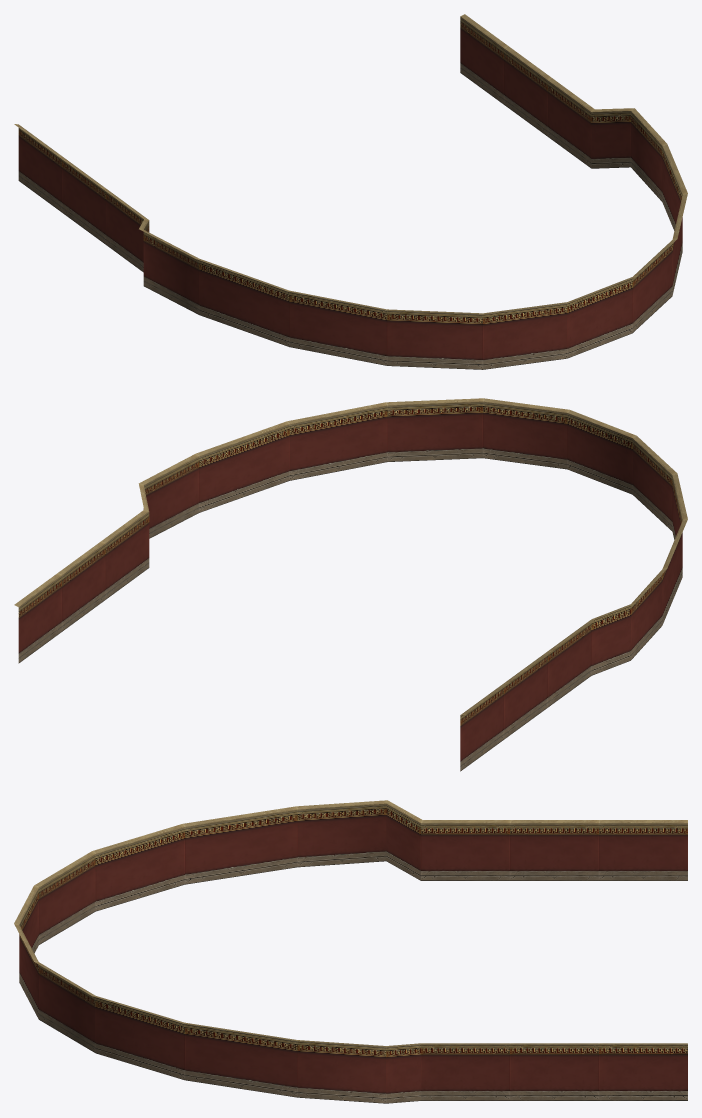
The model's file is Wall01_Maincity_003.FBX.
The picture shows the model from 3 angles, top to bottom: view 1: azimuth 30°, elevation 25°; view 2: azimuth 150°, elevation 25°; view 3: azimuth 270°, elevation 25°; orthographic projection.
Parts seen in each view (by area): view 1: Wall01_Maincity_003; view 2: Wall01_Maincity_003; view 3: Wall01_Maincity_003.
Part boxes in pixels (x1,y1,x2,y2): Wall01_Maincity_003: [14, 14, 687, 369]; Wall01_Maincity_003: [14, 398, 687, 771]; Wall01_Maincity_003: [14, 800, 687, 1103].
Size of the model in its own units: 2200 by 280 by 2540.
1 material, 1 textured.
